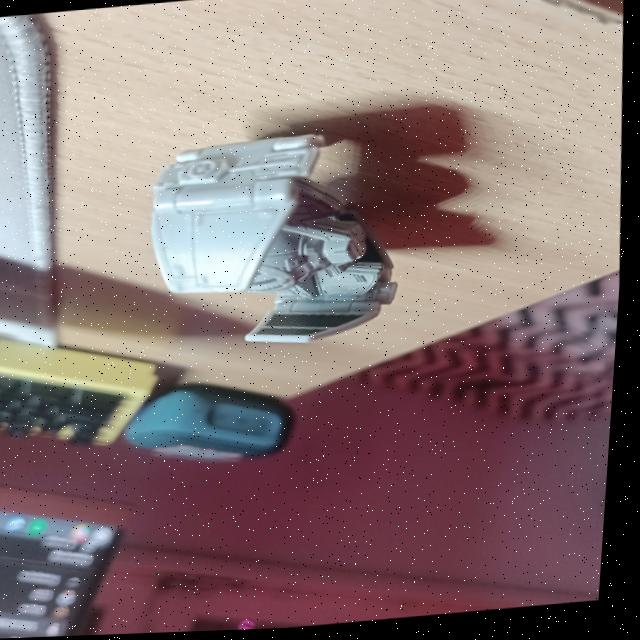tie fighter: (154, 136, 401, 344)
